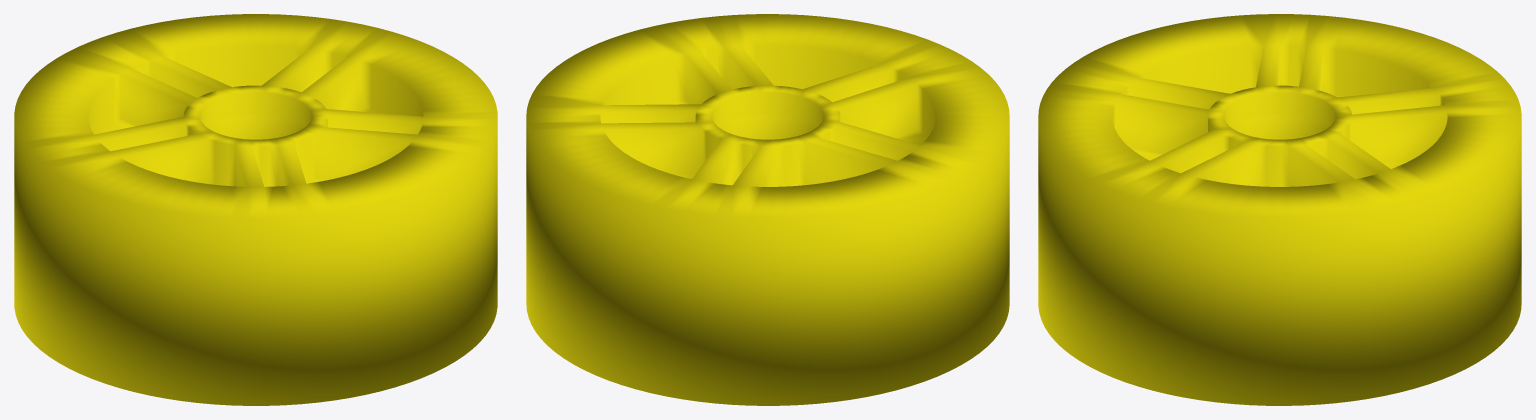
Rendered from front_wheels.dae.
3 renders of one model, left to right at view 1: azimuth 30°, elevation 25°; view 2: azimuth 150°, elevation 25°; view 3: azimuth 270°, elevation 25°, orthographic.
Visible parts, largest first — view 1: original.004; view 2: original.004; view 3: original.004.
Part boxes in pixels (x1,y1,x2,y2): original.004: (14, 14, 497, 405); original.004: (526, 14, 1009, 405); original.004: (1038, 14, 1521, 405).
Size of the model in its own units: 0.147 by 0.147 by 0.063.
